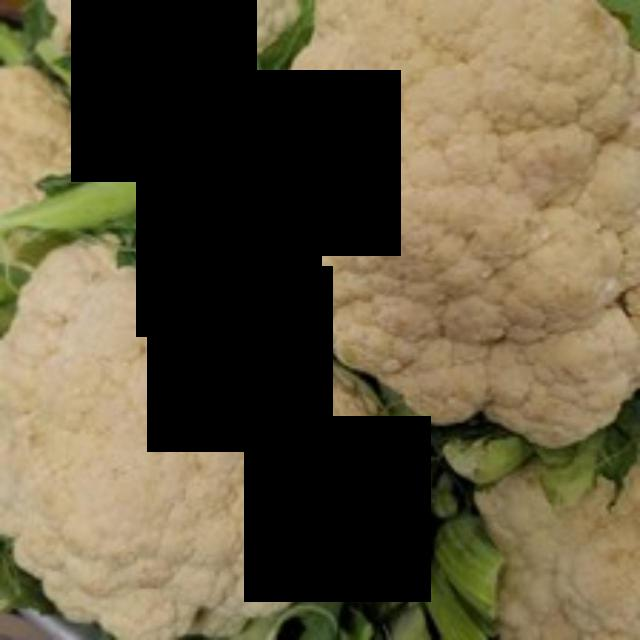cauliflower: (251, 0, 637, 460)
